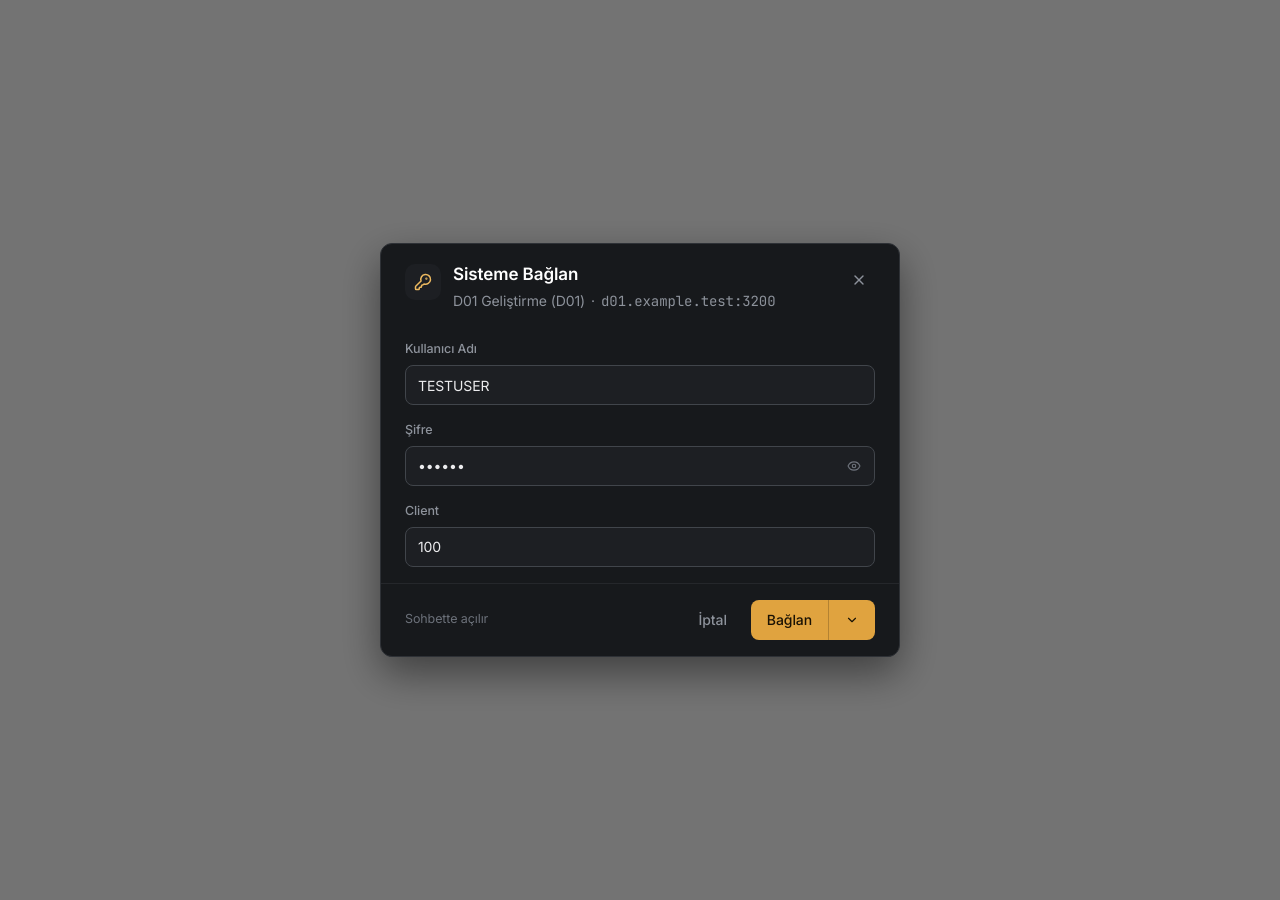
it: CredentialsModal › ASCII dışı şifrede uyarı çıkıyor ama Bağlan açık kalıyor
expect the field labelled "Kullanıcı Adı" holds "TESTUSER": met, box [405,365,875,405]
Type "şifre" into the password field labelled "Şifre". click: (640,466)
box: [405,446,875,486]
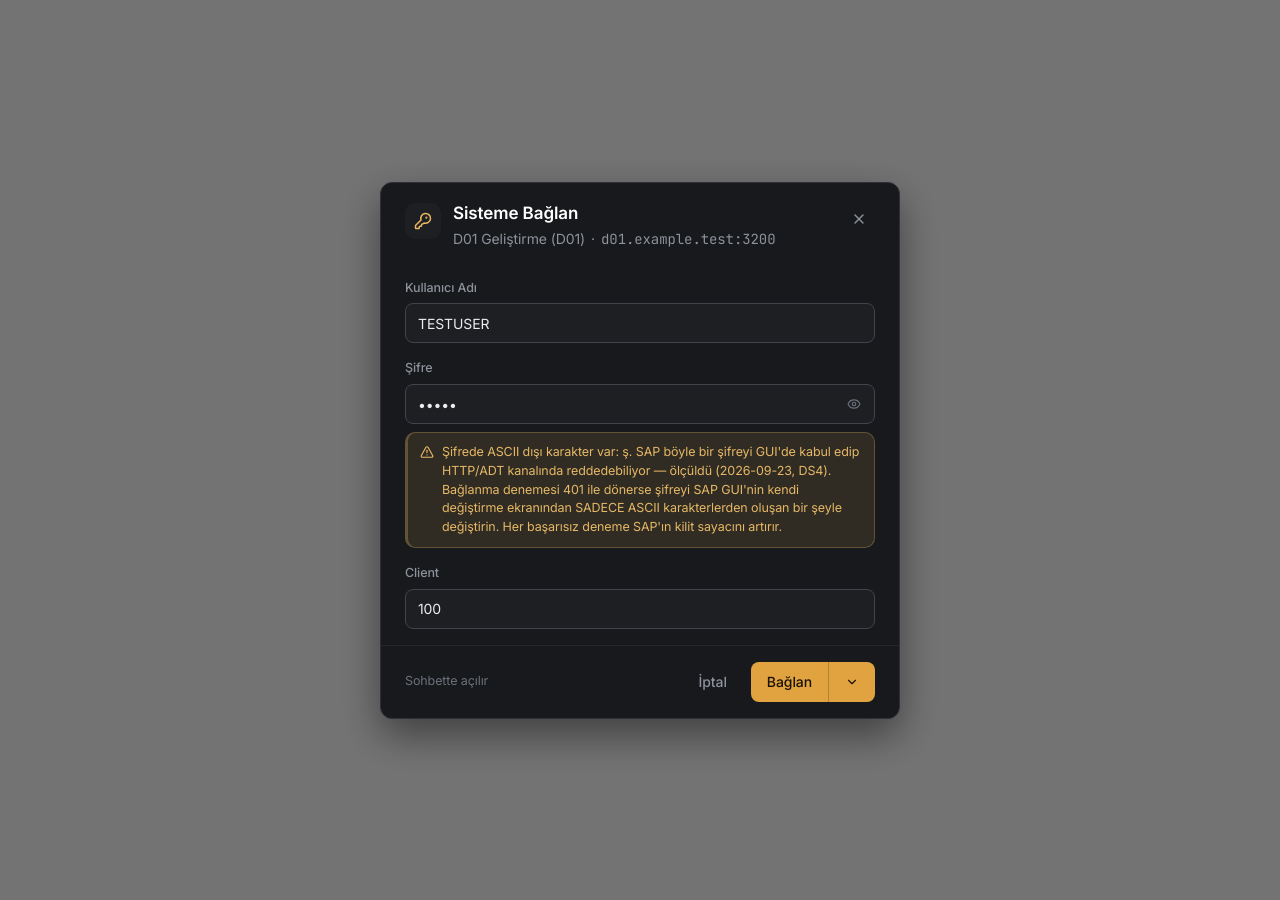
expect the button "Bağlan" is enabled: met, box [751,662,828,702]
expect the text "Şifrede ASCII dışı karakter var: ş." is shown: met, box [442,444,859,534]
